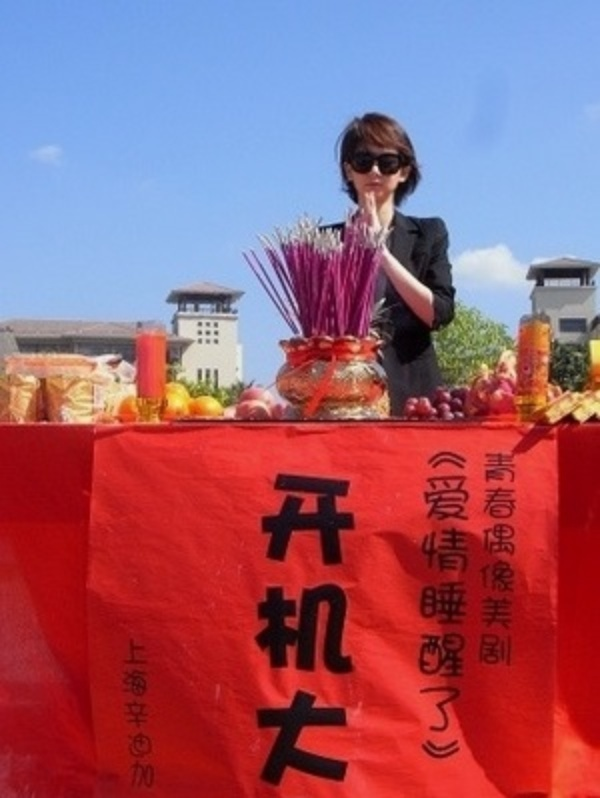text: (257, 467, 272, 787), (273, 467, 288, 787), (289, 467, 304, 787), (305, 467, 320, 787), (321, 467, 336, 787), (337, 467, 352, 787), (433, 451, 448, 761), (449, 451, 464, 761), (419, 451, 432, 761), (481, 449, 496, 673), (497, 449, 512, 673), (465, 451, 473, 761), (129, 637, 144, 791), (145, 637, 157, 791), (119, 637, 128, 791), (513, 449, 519, 673), (353, 467, 357, 787), (253, 467, 256, 787), (479, 449, 480, 673)
